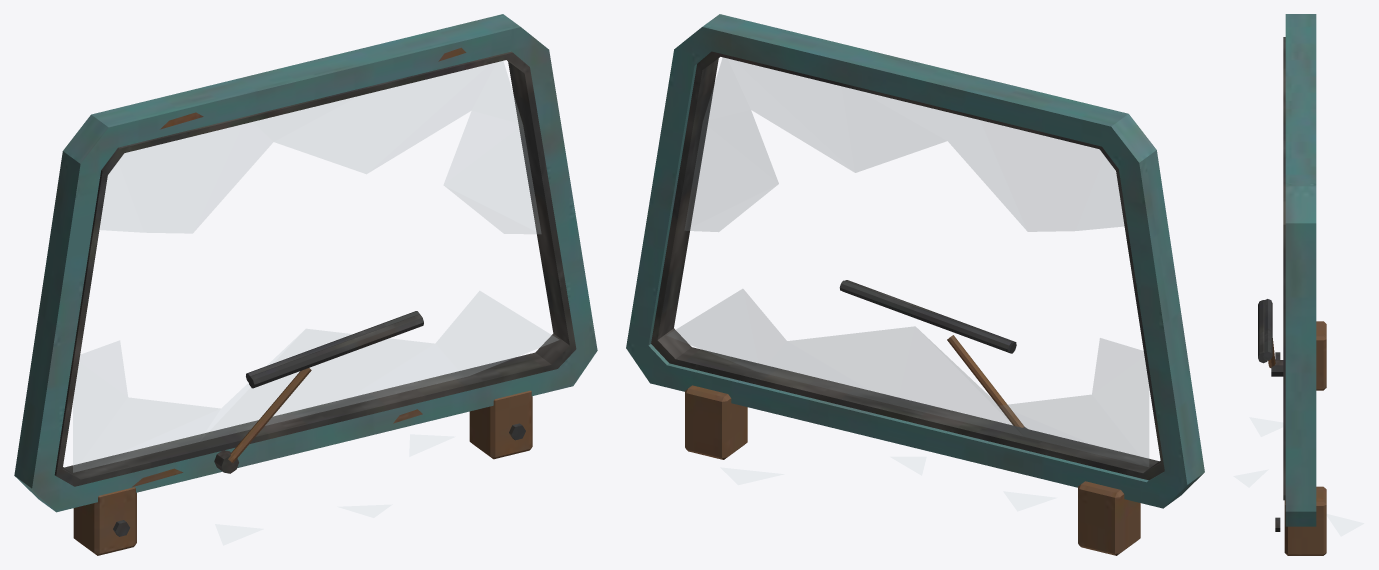
File: JV21_smashed_windshield_frame.glb
3 renders of one model, left to right at view 1: azimuth 30°, elevation 25°; view 2: azimuth 150°, elevation 25°; view 3: azimuth 270°, elevation 25°, orthographic. The views are drawn at different scales.
Parts seen in each view (by area): view 1: Chipped teal windshield surround; view 2: Chipped teal windshield surround; view 3: Chipped teal windshield surround.
Part boxes in pixels (<box>): Chipped teal windshield surround: <box>14,14,597,555</box>; Chipped teal windshield surround: <box>626,14,1204,555</box>; Chipped teal windshield surround: <box>1234,14,1363,555</box>.
Bounding box in the file's own units: 1.4 × 1.01 × 0.33.
5 materials, 4 textured.
